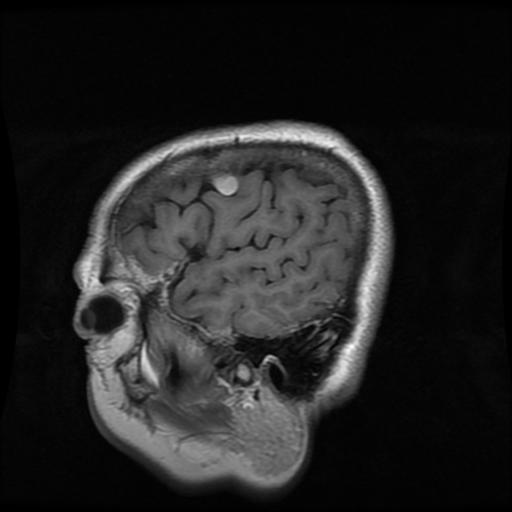Menigiomia_tumour: (212, 171, 237, 195)
